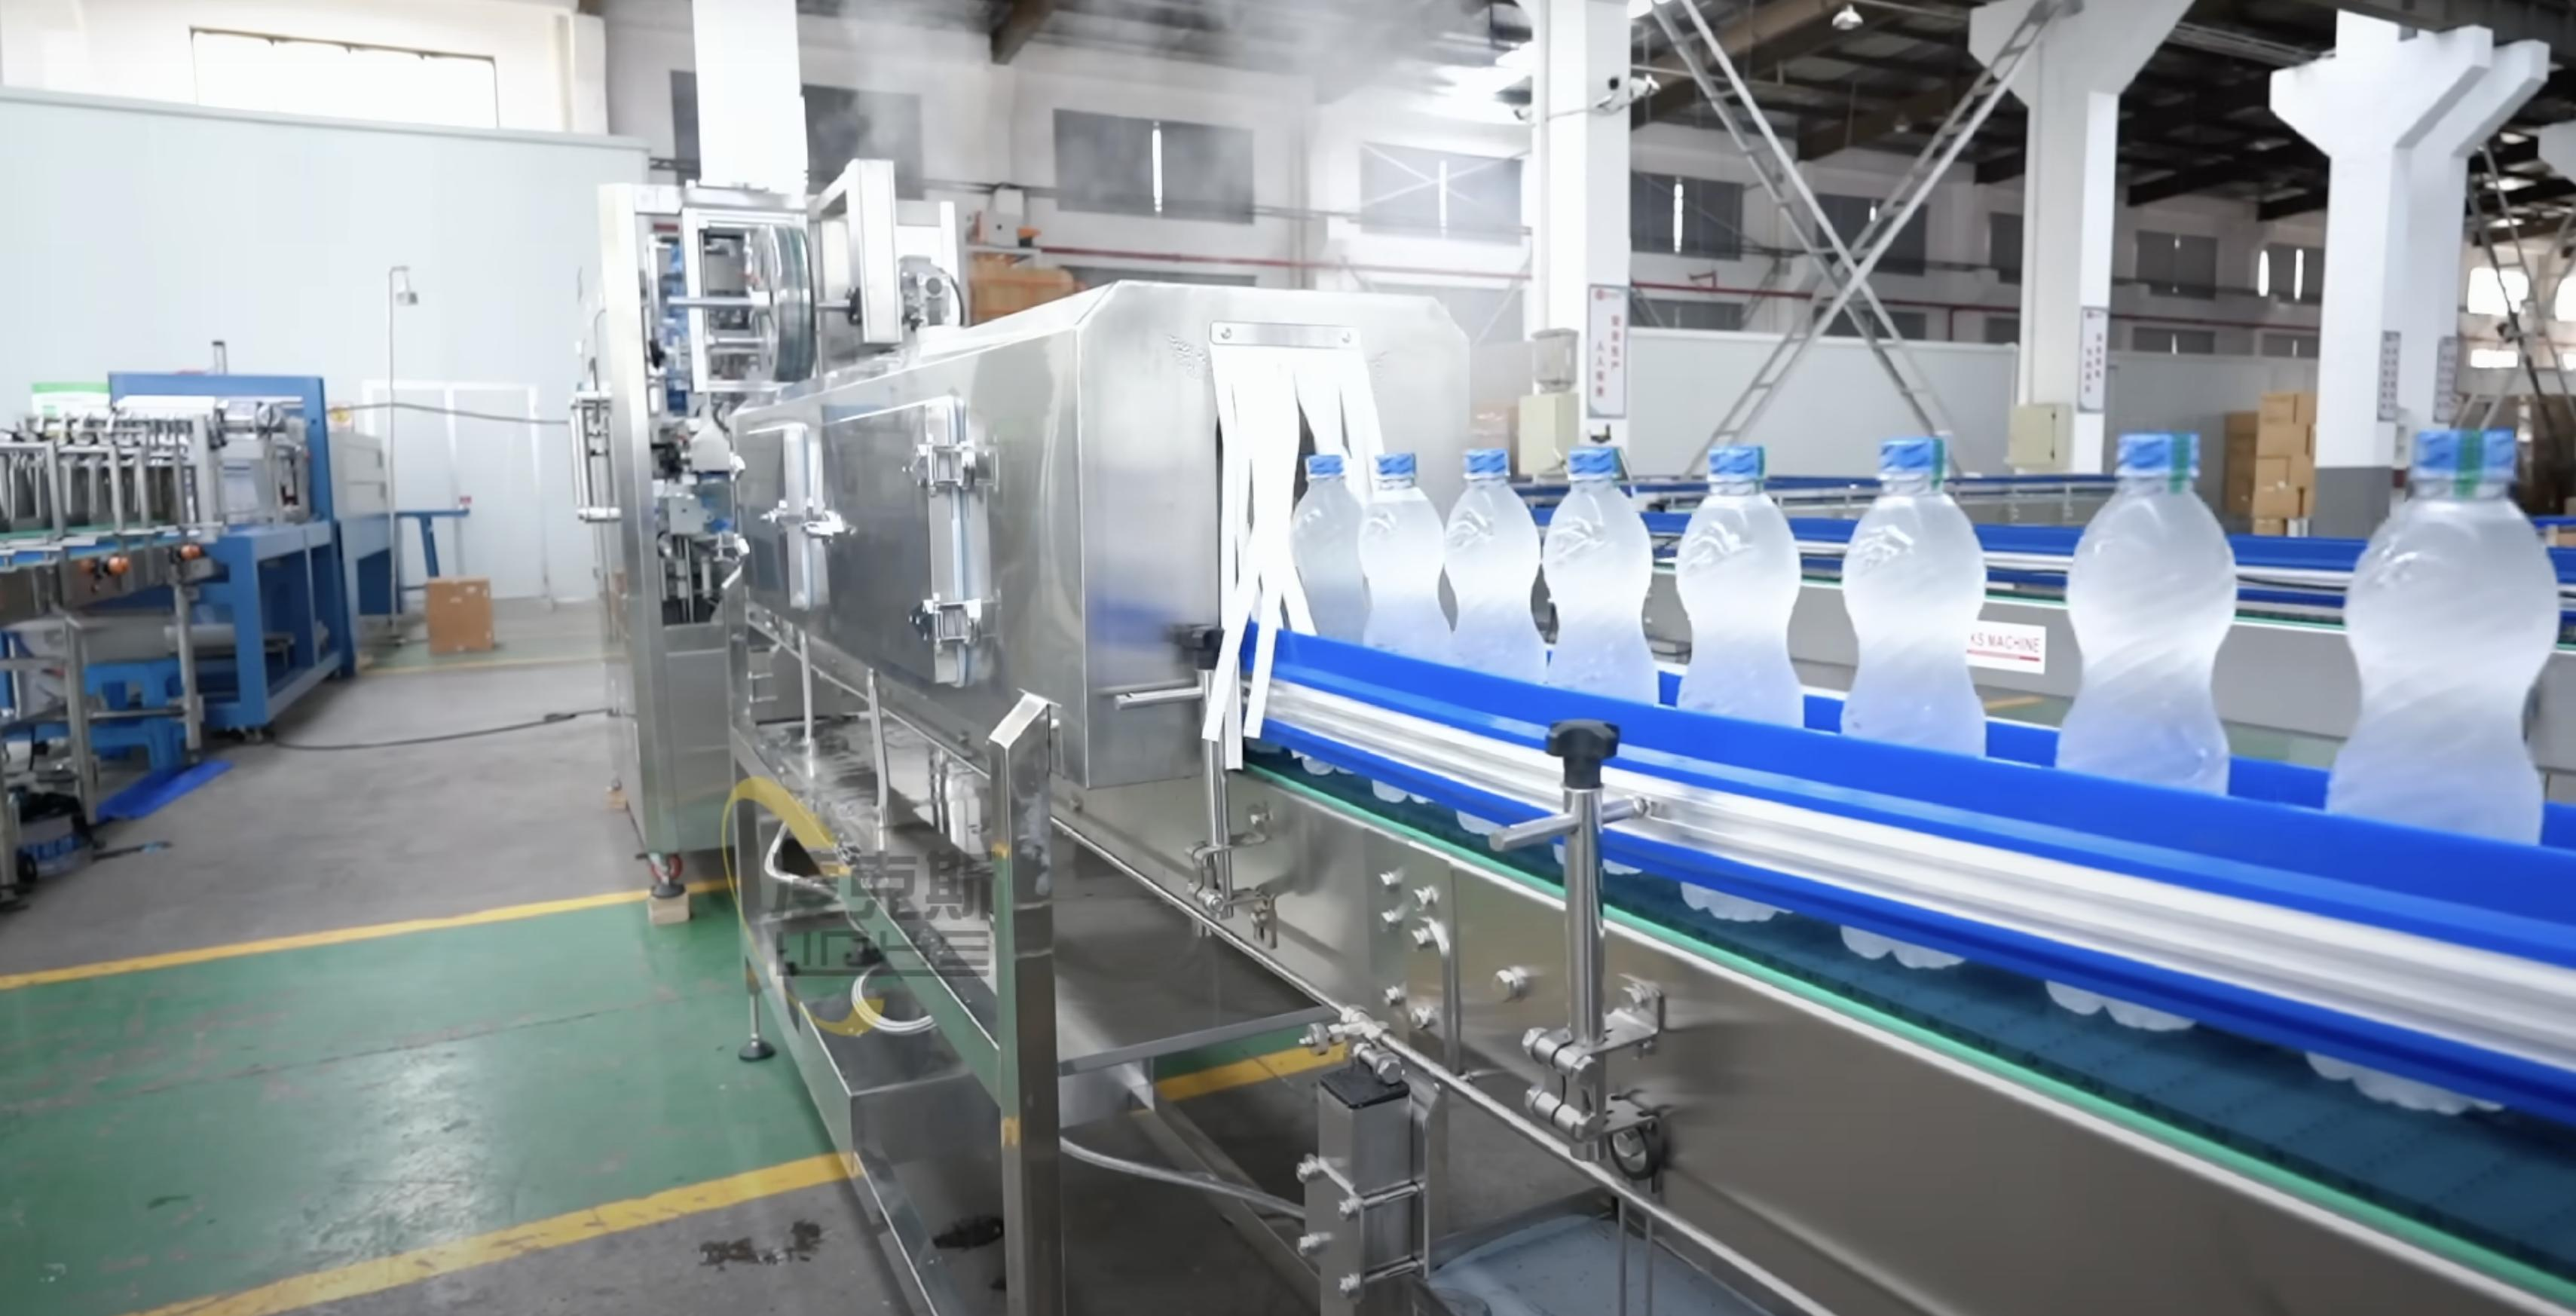bottle: (2338, 413, 2551, 831), (2047, 410, 2240, 797), (1839, 436, 1997, 754), (1673, 441, 1814, 723), (1541, 446, 1670, 705), (1445, 446, 1544, 676), (1363, 428, 1447, 661), (1279, 450, 1366, 650)
